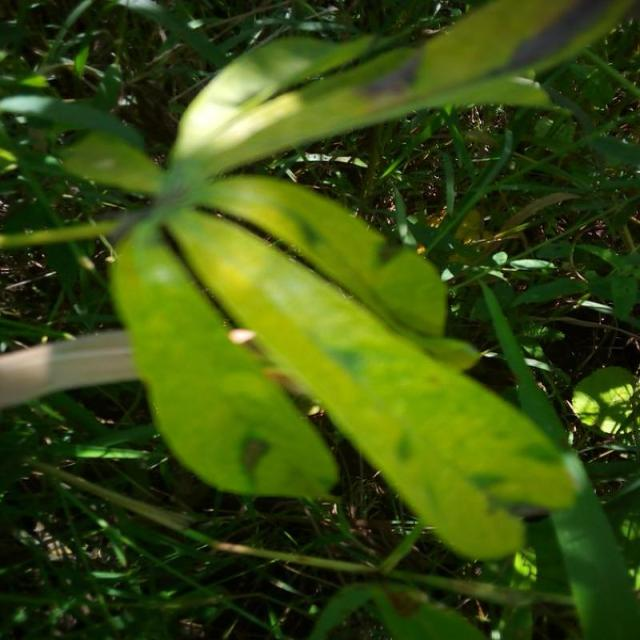cassava leaf: (7, 0, 635, 566), (153, 188, 578, 561), (110, 214, 342, 500)
